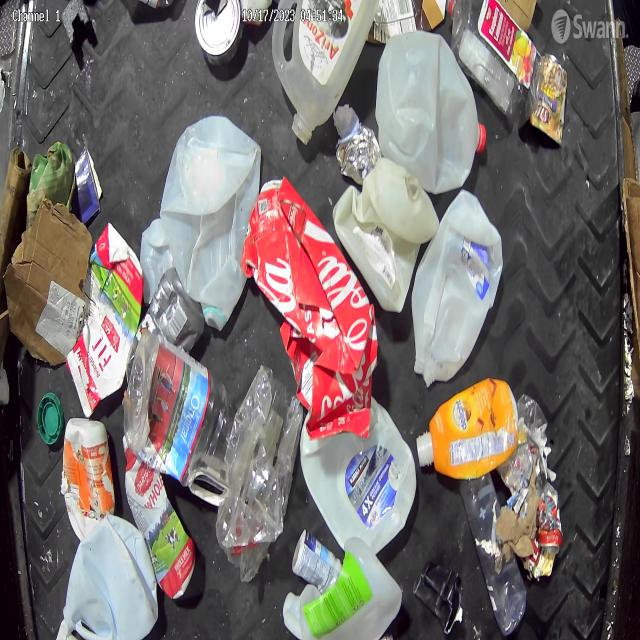can: (526, 48, 568, 146), (194, 0, 243, 66)
milk_jug: (159, 115, 262, 323), (300, 396, 418, 556), (411, 187, 503, 387), (376, 31, 485, 194), (275, 0, 375, 136), (64, 508, 161, 640), (282, 537, 403, 640), (333, 181, 423, 312)
non_white_jug: (66, 222, 145, 419)
